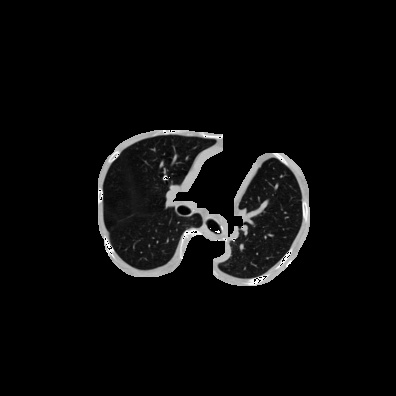PN: (162, 174, 168, 180)
